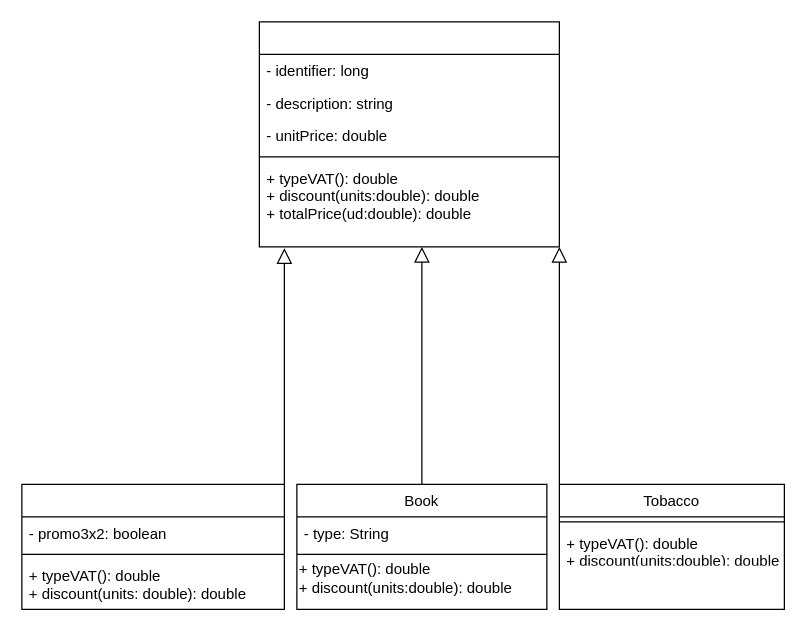
This 806x635 diagram has some shape labels left out. The shapes that lost their labels are listed below. From the top down, each one's box as (x1, y1, x2, y2) in pixels, then its label:
(258, 21, 559, 247): + Article
(21, 483, 284, 609): Food
